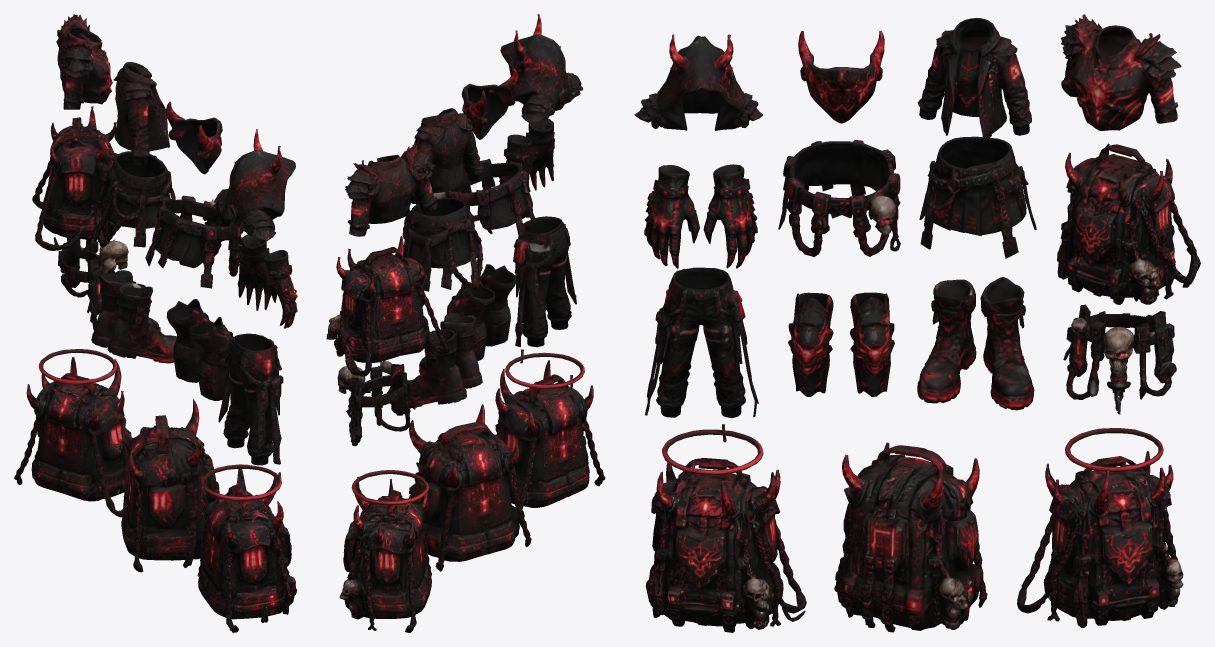
Rendered from dark.glb.
3 views of the same model, side by side, from view 1: azimuth 30°, elevation 25°; view 2: azimuth 150°, elevation 25°; view 3: azimuth 270°, elevation 25° (orthographic). The views are drawn at different scales.
Visible parts, largest first — view 1: tripo_node_082842c5-8614-45b6-bc53-6a3cfade63ff; view 2: tripo_node_082842c5-8614-45b6-bc53-6a3cfade63ff; view 3: tripo_node_082842c5-8614-45b6-bc53-6a3cfade63ff.
Part boxes in pixels (left/top/right/bottom): tripo_node_082842c5-8614-45b6-bc53-6a3cfade63ff: left=14, top=14, right=297, bottom=632; tripo_node_082842c5-8614-45b6-bc53-6a3cfade63ff: left=326, top=14, right=605, bottom=632; tripo_node_082842c5-8614-45b6-bc53-6a3cfade63ff: left=634, top=14, right=1200, bottom=632.
Size of the model in its own units: 0.2414 by 0.9791 by 0.8522.
1 material, 1 textured.
